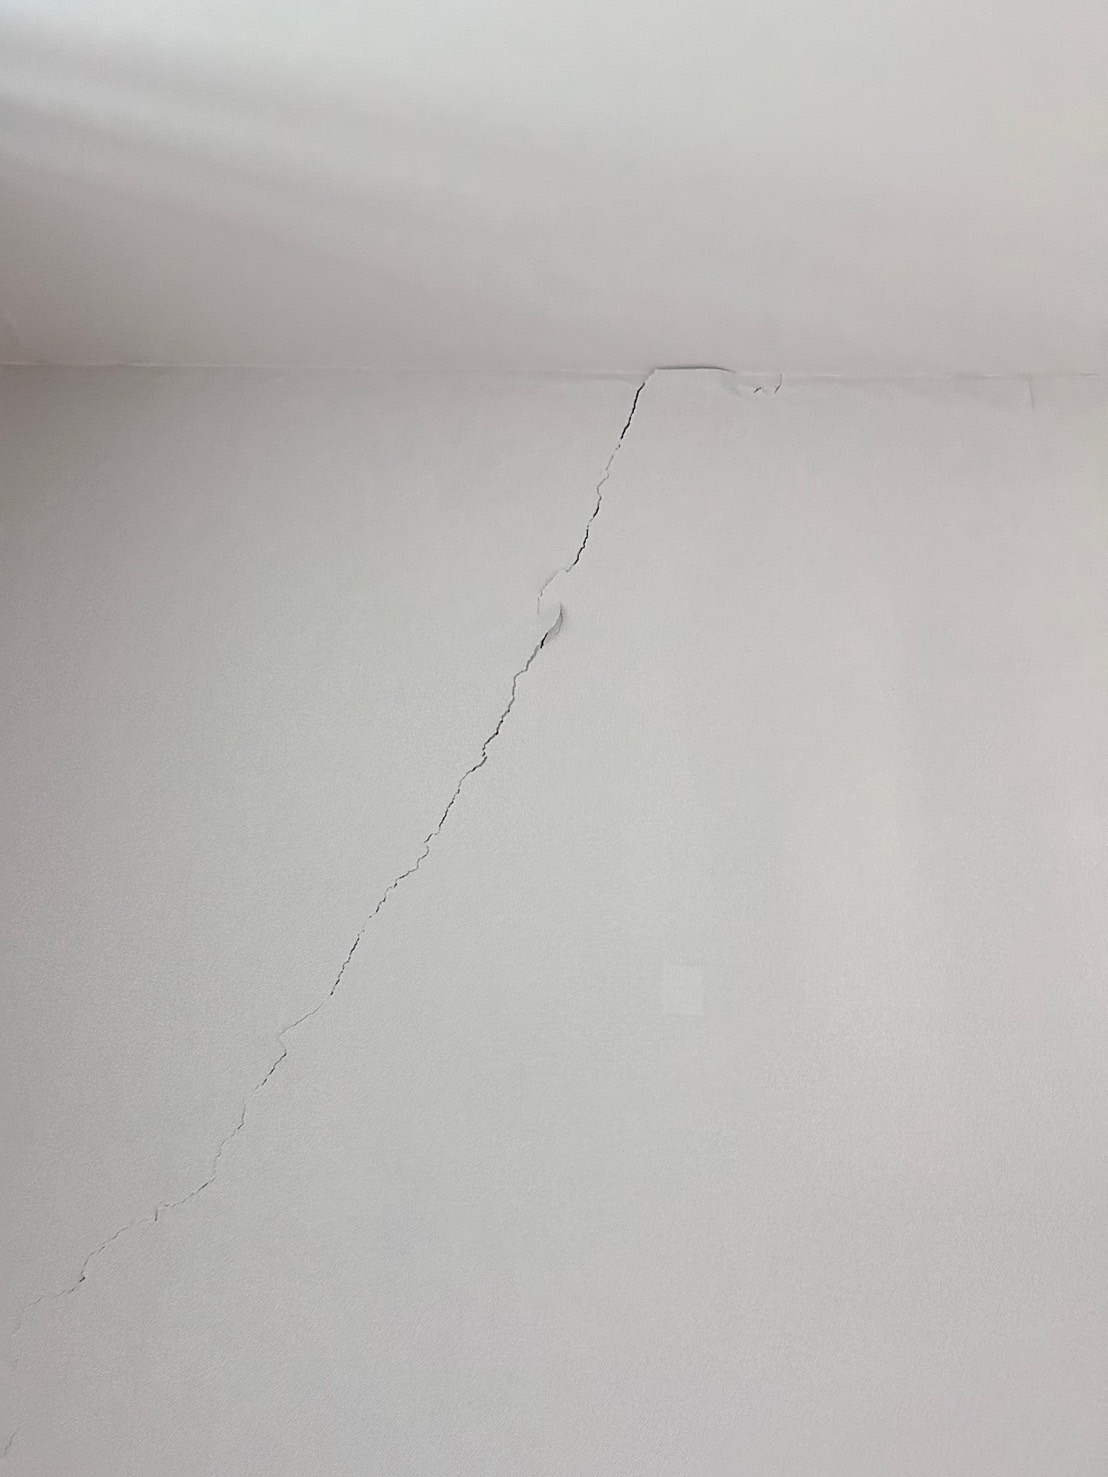Low: (28, 352, 720, 1328)
